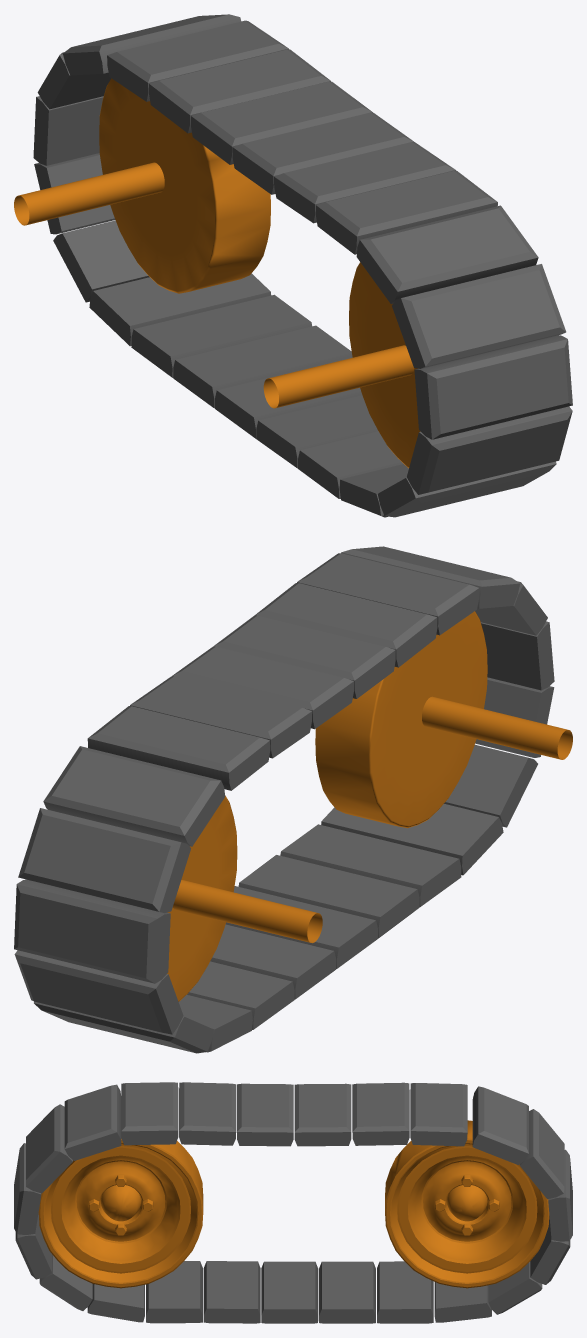
File: tank_tracks.dae
3 views of the same model, one above another, from view 1: azimuth 30°, elevation 25°; view 2: azimuth 150°, elevation 25°; view 3: azimuth 270°, elevation 25° (orthographic). The views are drawn at different scales.
Visible parts, largest first — view 1: TankTracksLeft; view 2: TankTracksLeft; view 3: TankTracksLeft.
Part boxes in pixels (x1,y1,x2,y2): TankTracksLeft: (14,14,572,517); TankTracksLeft: (14,546,572,1053); TankTracksLeft: (14,1082,572,1323).
Size of the model in its own units: 0.68 by 2.1 by 0.8198.
